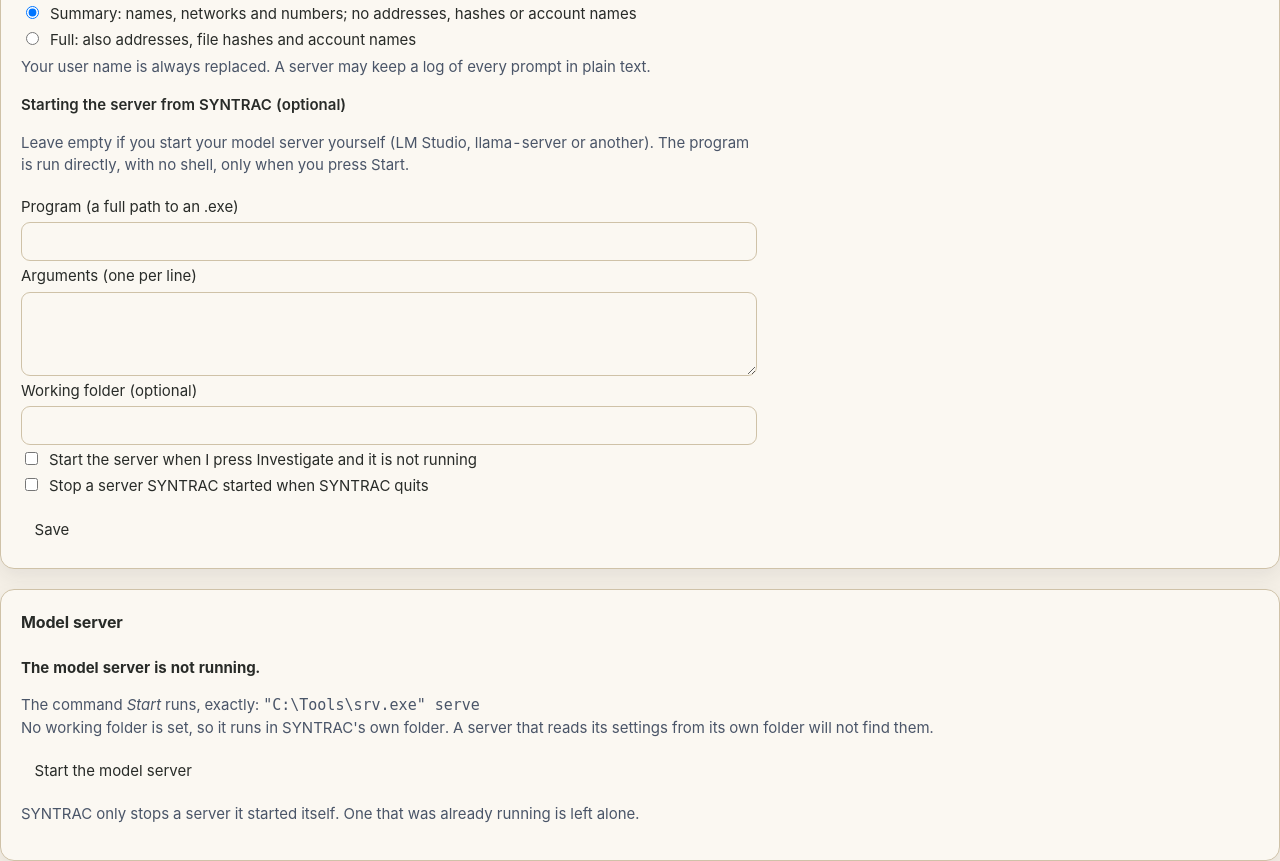
Scenario: AiHelp: the Start button answers at once › stops showing "starting" once the program reports that the server is starting
(page scrolled)
Click the button "Start the model server".
click(113, 771)  # box [21,754,205,788]
(page scrolled)
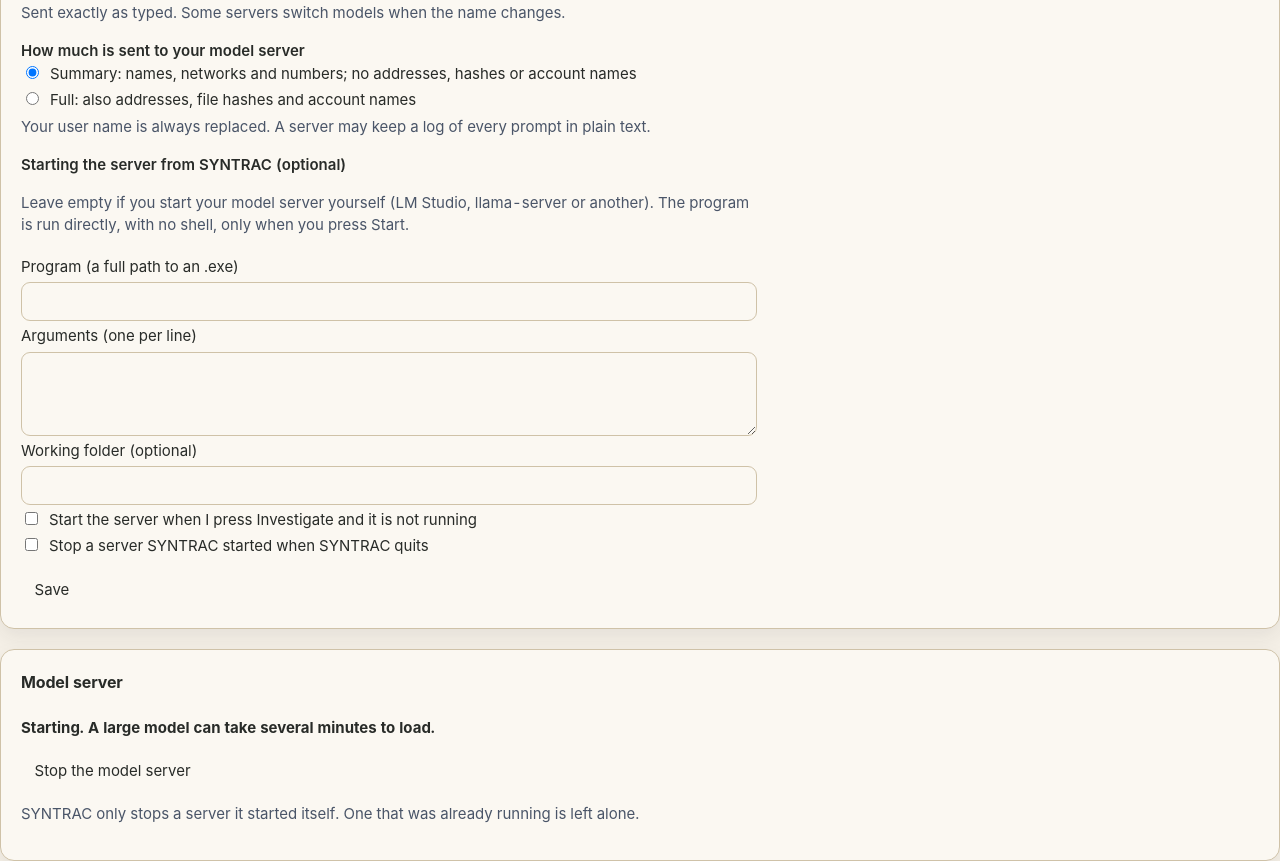
Expected: the button "Stop the model server" is shown, [21,754,204,788]
